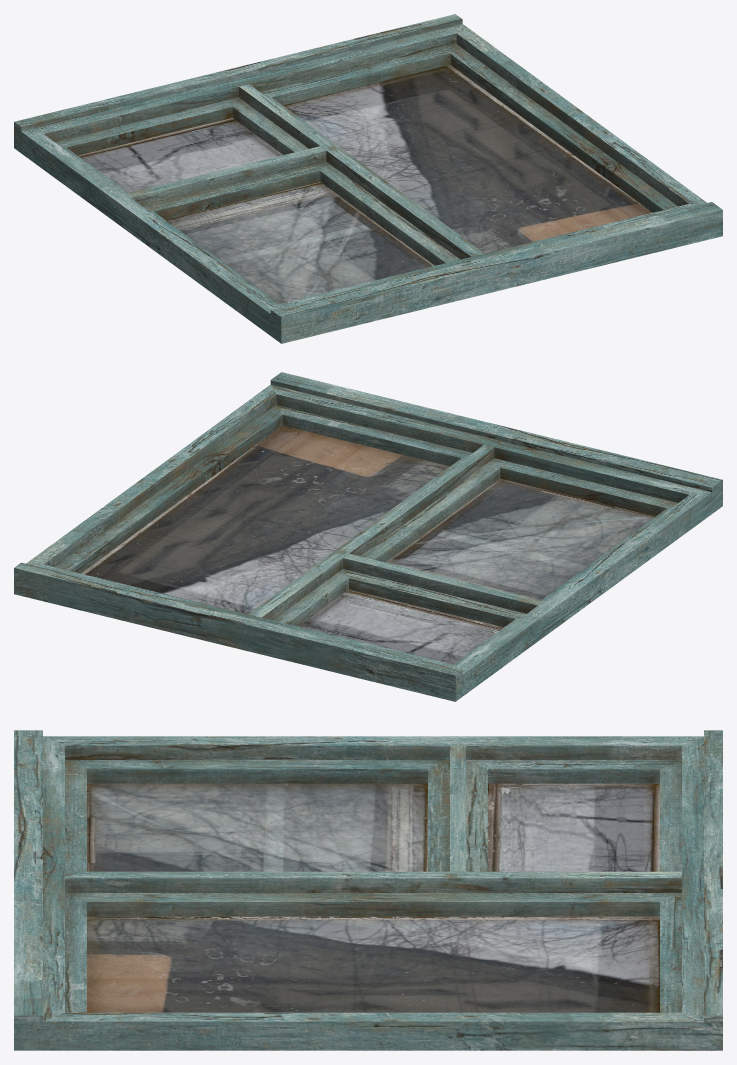
Rendered from window (1).glb.
3 views of the same model, one above another, from view 1: azimuth 30°, elevation 25°; view 2: azimuth 150°, elevation 25°; view 3: azimuth 270°, elevation 25° (orthographic). The views are drawn at different scales.
Visible parts, largest first — view 1: Object193_Material #34_0; view 2: Object193_Material #34_0; view 3: Object193_Material #34_0.
Part boxes in pixels (left/top/right/bottom): Object193_Material #34_0: left=14, top=14, right=722, bottom=343; Object193_Material #34_0: left=14, top=372, right=722, bottom=701; Object193_Material #34_0: left=14, top=730, right=722, bottom=1050.
Size of the model in its own units: 1507 by 85.9 by 1582.
1 material, 1 textured.
